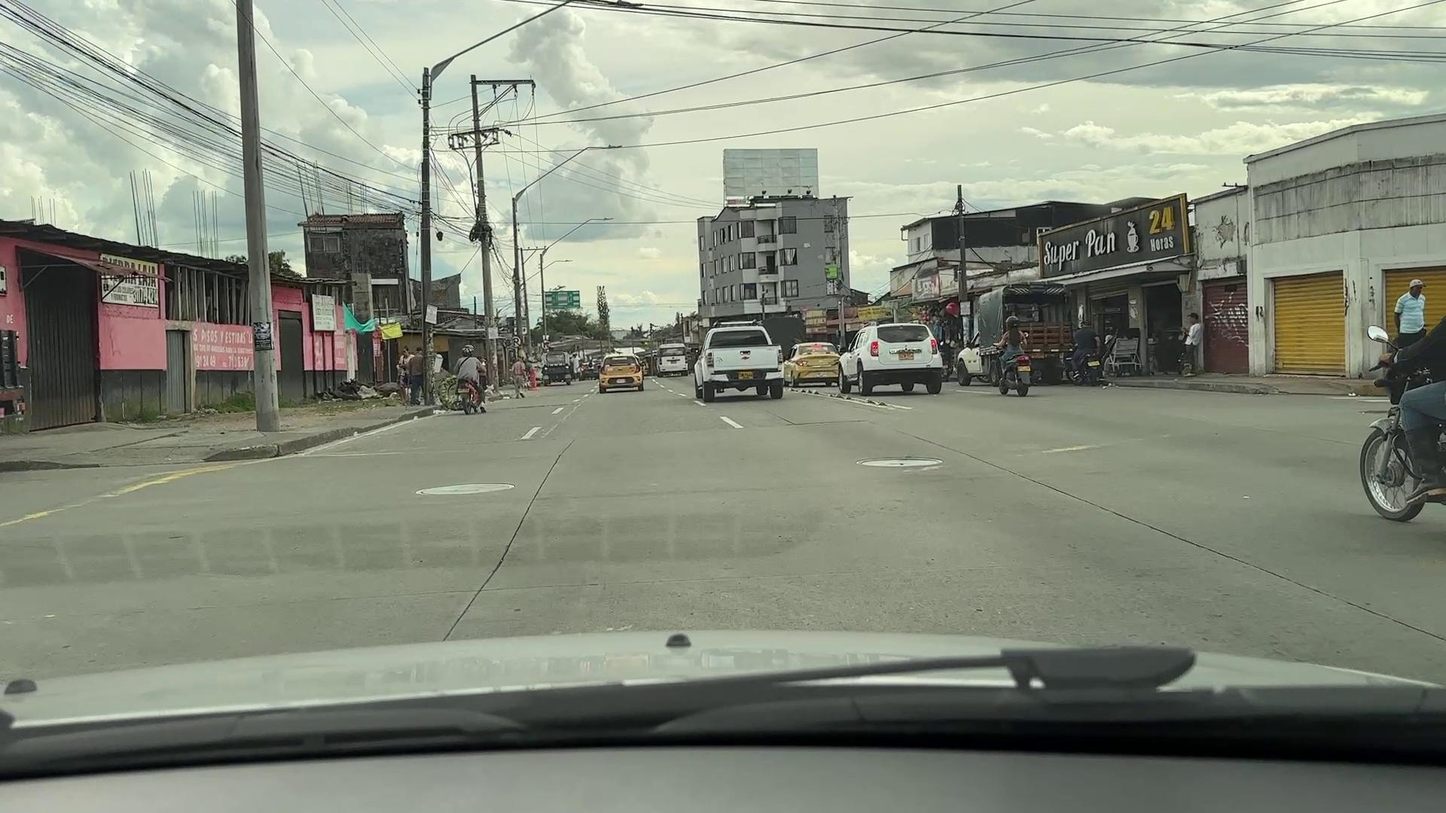registro: (416, 483, 514, 495), (856, 457, 943, 467)
